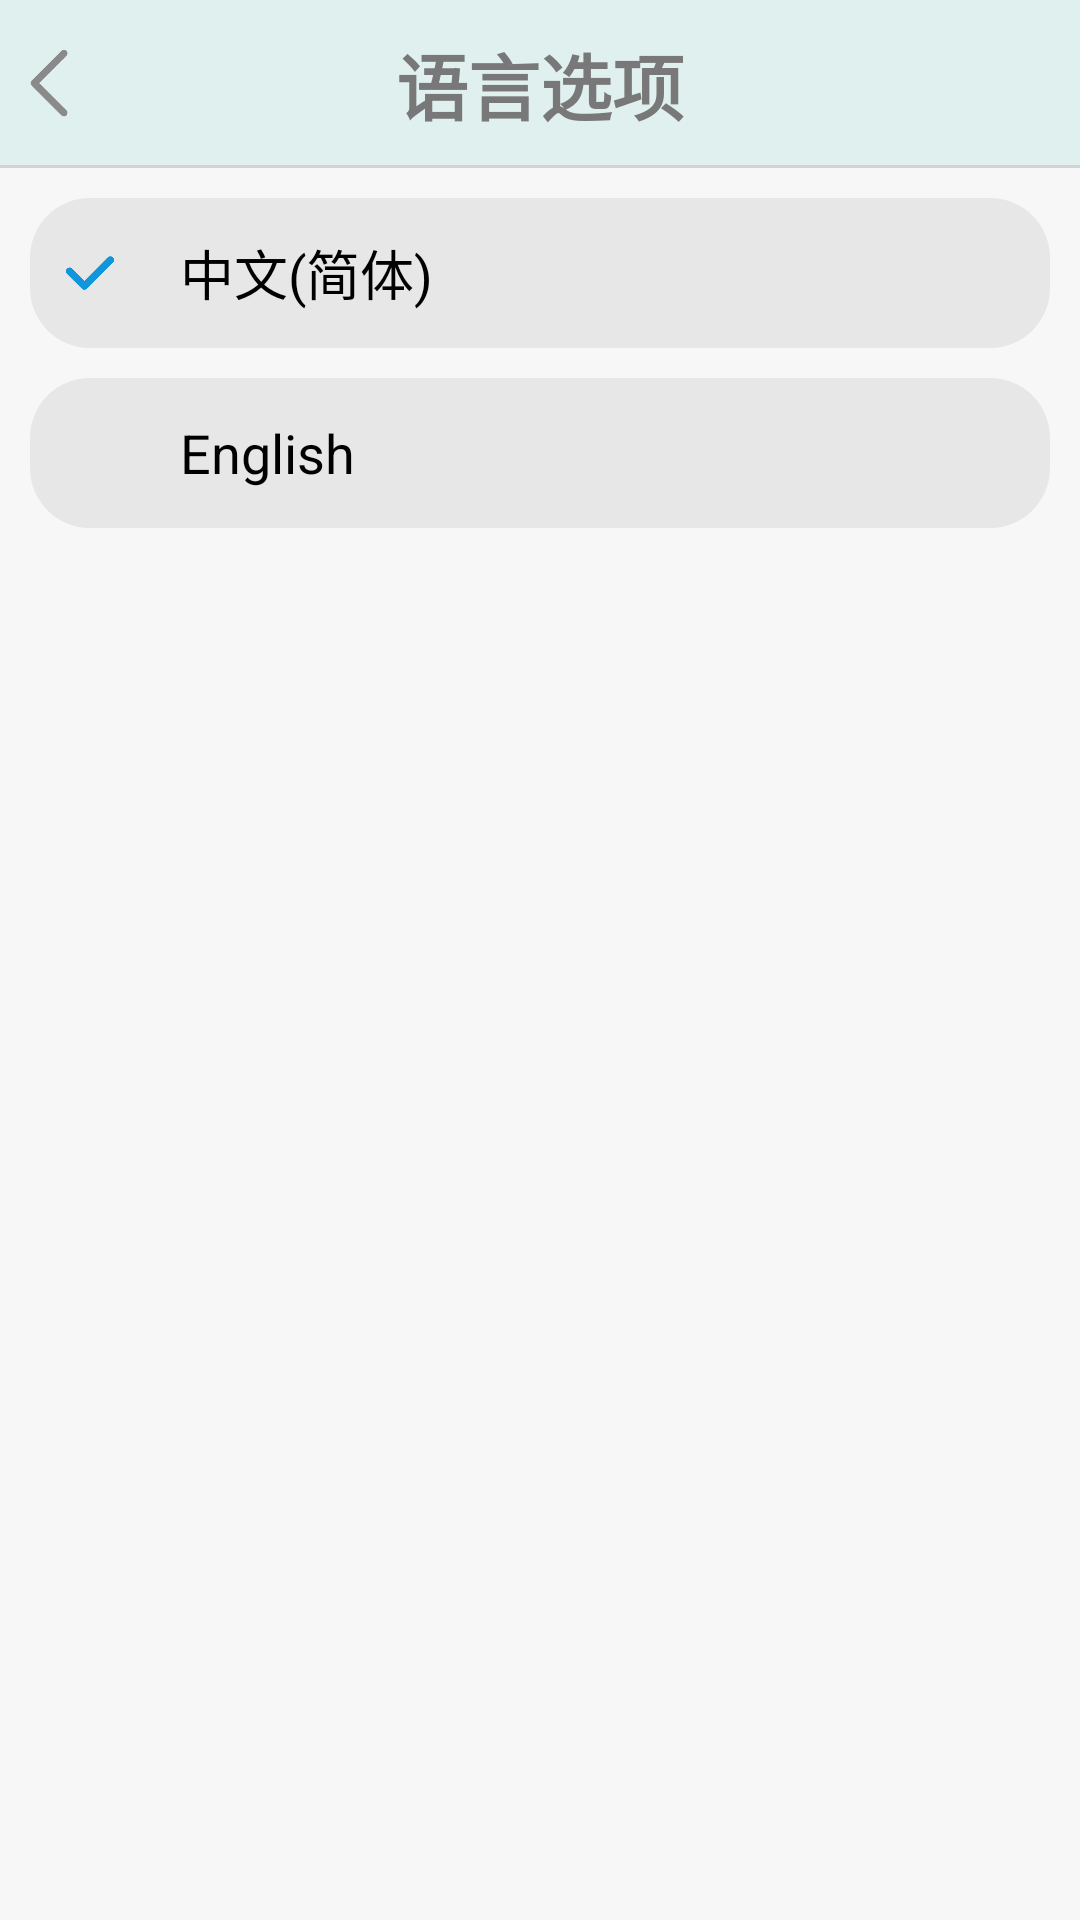

Screen size 1080*1920. Icon name, then its box in pixels as [x1=x1, y1=y1, x2=x2, y2=y2]:
back: [x1=31, y1=50, x2=68, y2=116]
select: [x1=66, y1=256, x2=114, y2=290]
